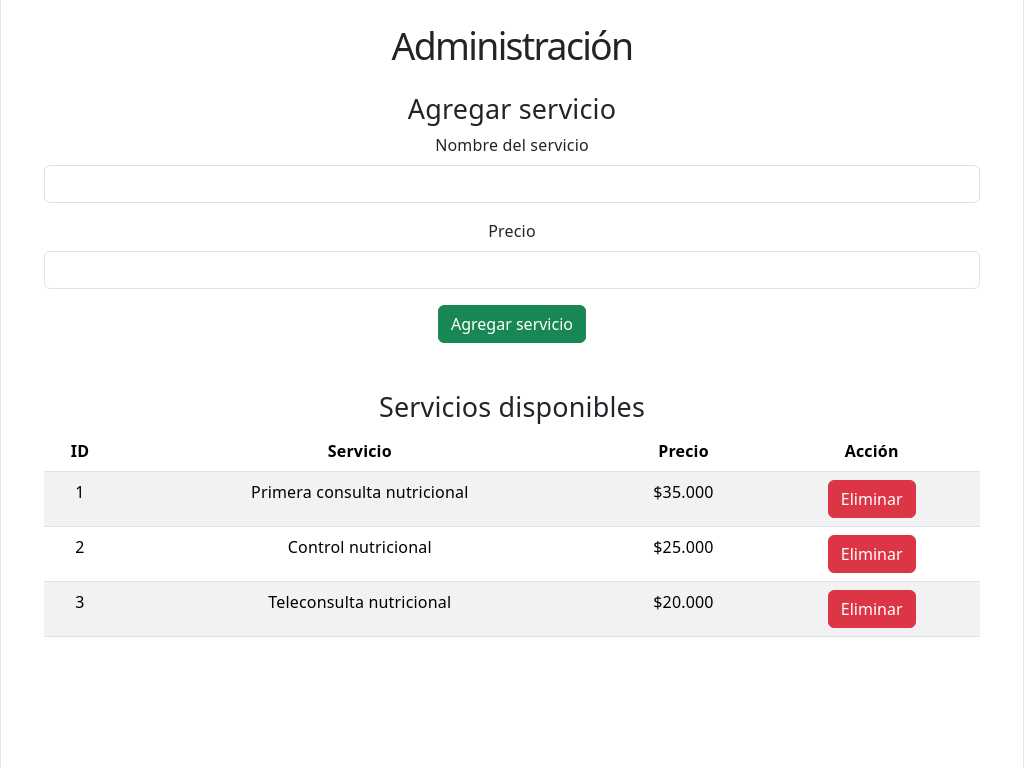
Test: Componente Administracion › permite eliminar un servicio
Click the button "Eliminar" in the row of "Primera consulta nutricional": (872,500) [828, 480, 916, 518]
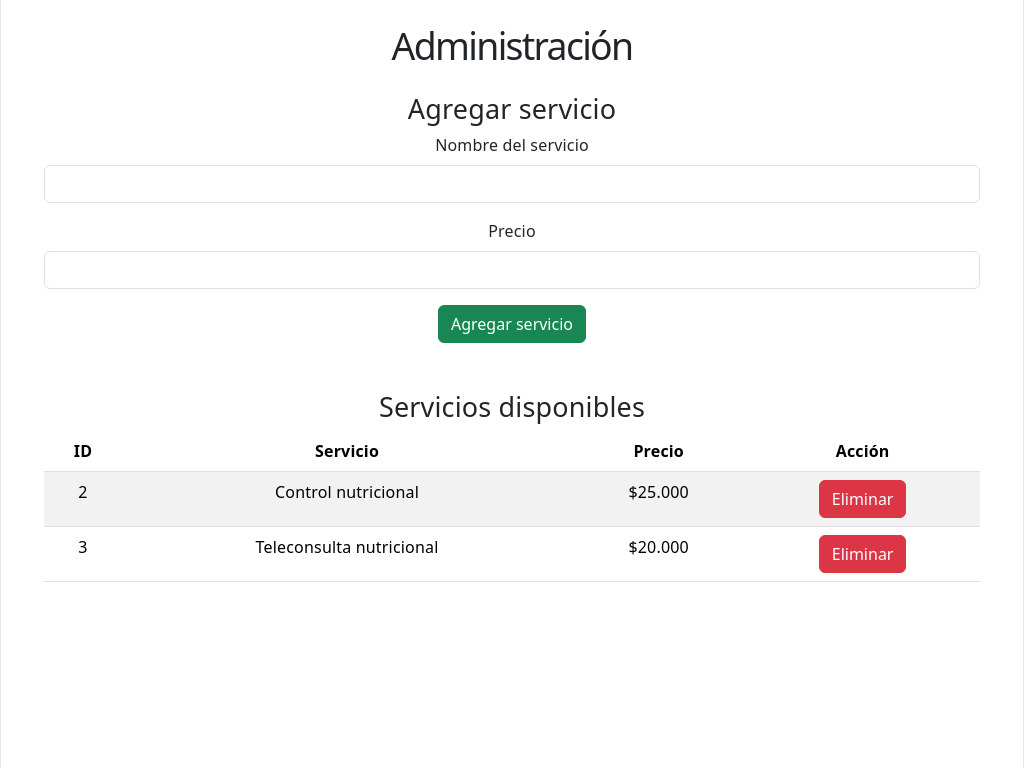
Result: the text "Primera consulta nutricional" is gone
